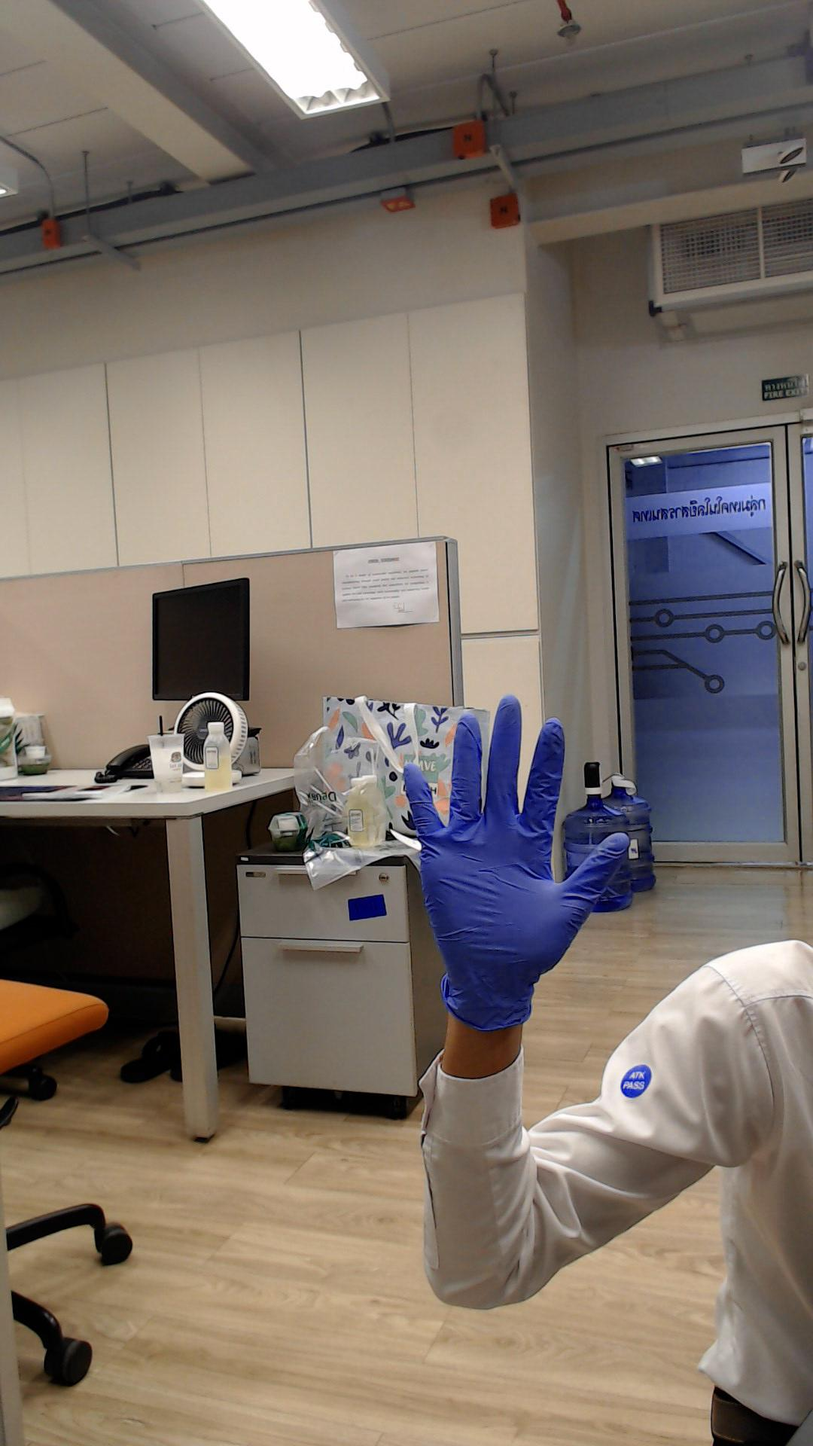gloves: (377, 686, 651, 983)
